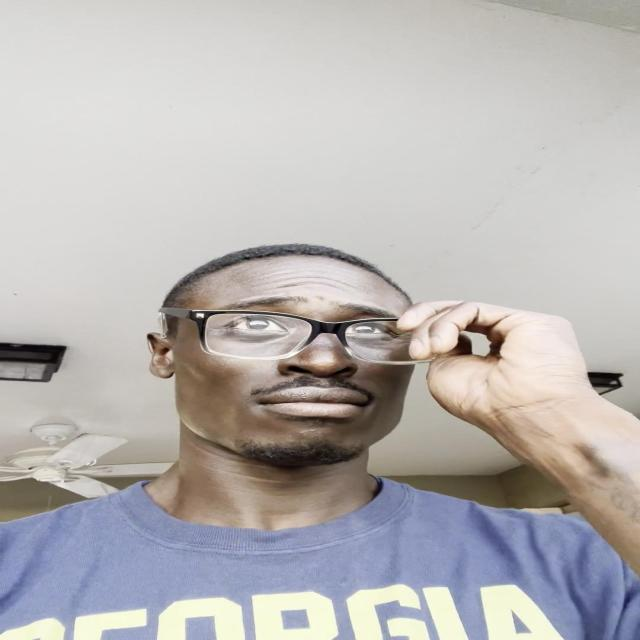NO-Mask: (158, 246, 441, 480)
